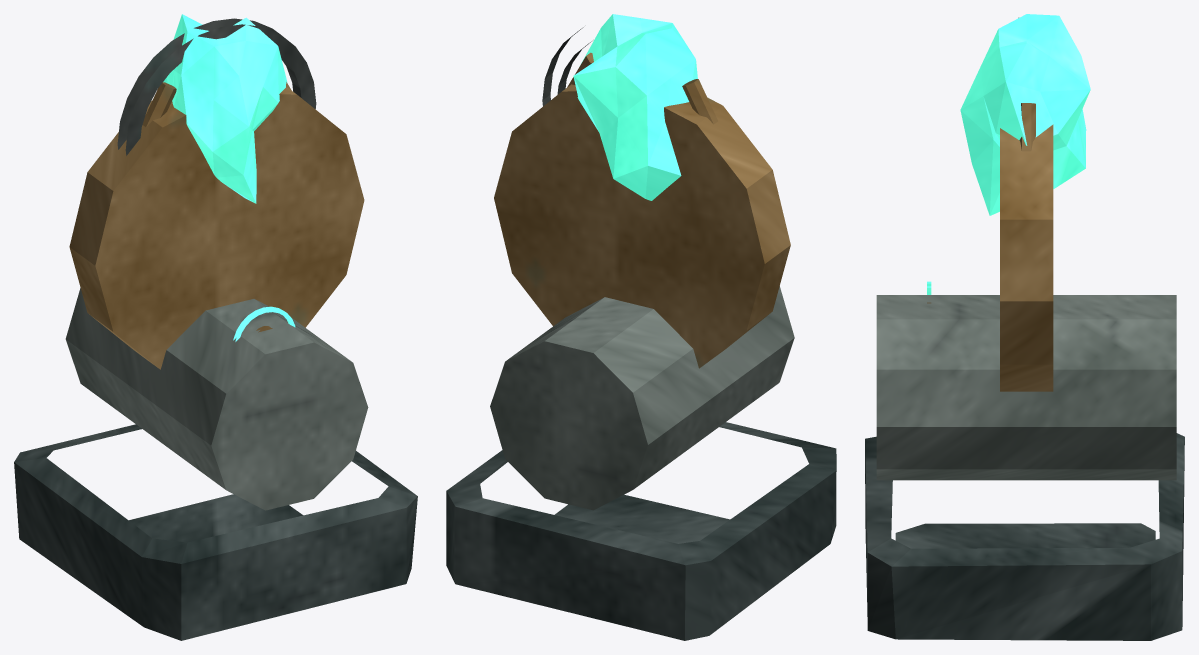
Rendered from 0581_relic_pedestal_06.glb.
3 views of the same model, side by side, from view 1: azimuth 30°, elevation 25°; view 2: azimuth 150°, elevation 25°; view 3: azimuth 270°, elevation 25° (orthographic). The views are drawn at different scales.
Parts seen in each view (by area): view 1: brass, stone_dark, stone, glow, iron; view 2: brass, stone_dark, stone, glow, iron; view 3: stone, stone_dark, glow, brass.
Boxes of the visible parts, x1=… form: brass: x1=69, y1=82, x2=364, y2=369; stone_dark: x1=14, y1=424, x2=417, y2=640; stone: x1=65, y1=288, x2=368, y2=510; glow: x1=163, y1=14, x2=295, y2=341; iron: x1=117, y1=18, x2=316, y2=155; brass: x1=494, y1=52, x2=790, y2=368; stone_dark: x1=446, y1=422, x2=836, y2=640; stone: x1=490, y1=286, x2=794, y2=510; glow: x1=573, y1=14, x2=697, y2=200; iron: x1=542, y1=27, x2=591, y2=106; stone: x1=876, y1=295, x2=1176, y2=480; stone_dark: x1=865, y1=433, x2=1184, y2=640; glow: x1=927, y1=14, x2=1090, y2=294; brass: x1=927, y1=103, x2=1053, y2=391.
Size of the model in its own units: 0.9664 by 1.84 by 0.9604.
Materials: 5 (5 with a texture image).
